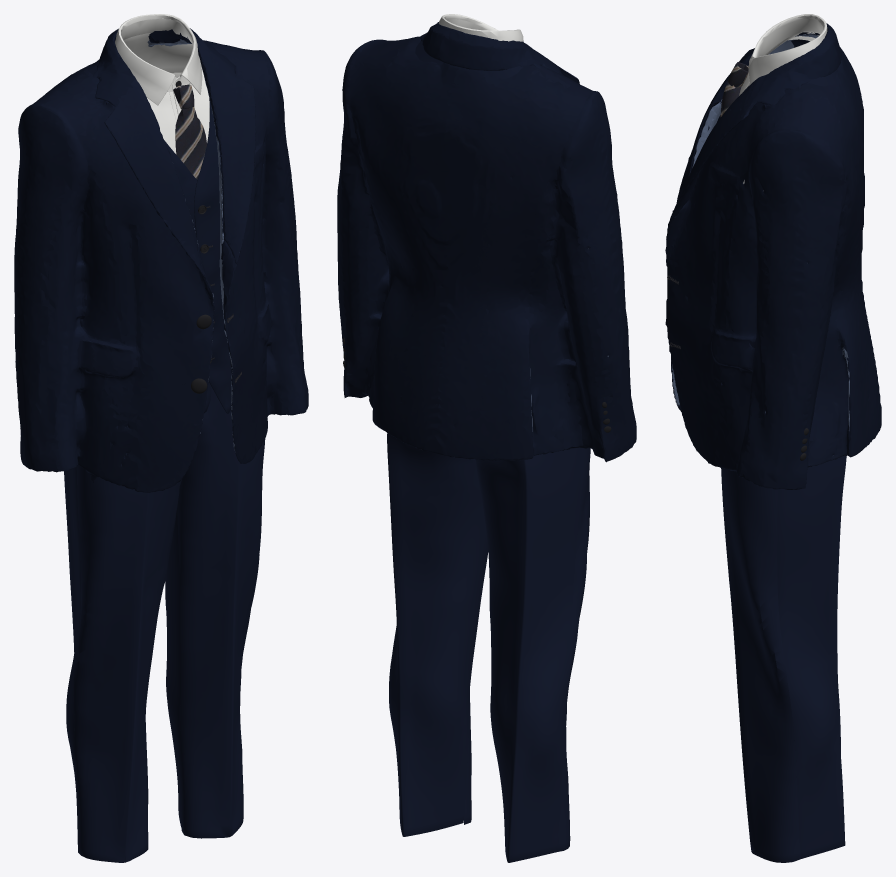
File: MW_Tailleur_suit_v5_REBUILD_notch.glb
The picture shows the model from 3 angles, left to right: view 1: azimuth 30°, elevation 25°; view 2: azimuth 150°, elevation 25°; view 3: azimuth 270°, elevation 25°; orthographic projection. The views are drawn at different scales.
Visible parts, largest first — view 1: Jacket, Trousers, Shirt, Waistcoat, Tie, Trim; view 2: Jacket, Trousers, Shirt; view 3: Jacket, Trousers, Shirt, Tie.
Part boxes in pixels (x1,y1,x2,y2): Jacket: [14, 28, 308, 492]; Trousers: [64, 382, 265, 862]; Shirt: [115, 14, 209, 154]; Waistcoat: [93, 59, 231, 413]; Tie: [173, 84, 206, 179]; Trim: [20, 81, 211, 428]; Jacket: [337, 22, 636, 462]; Trousers: [387, 425, 590, 862]; Shirt: [439, 14, 523, 41]; Jacket: [665, 23, 881, 489]; Trousers: [721, 455, 846, 862]; Shirt: [739, 14, 827, 190]; Tie: [720, 62, 748, 116].
Size of the model in its own units: 0.5383 by 1.5 by 0.3669.
9 materials, 4 textured.
